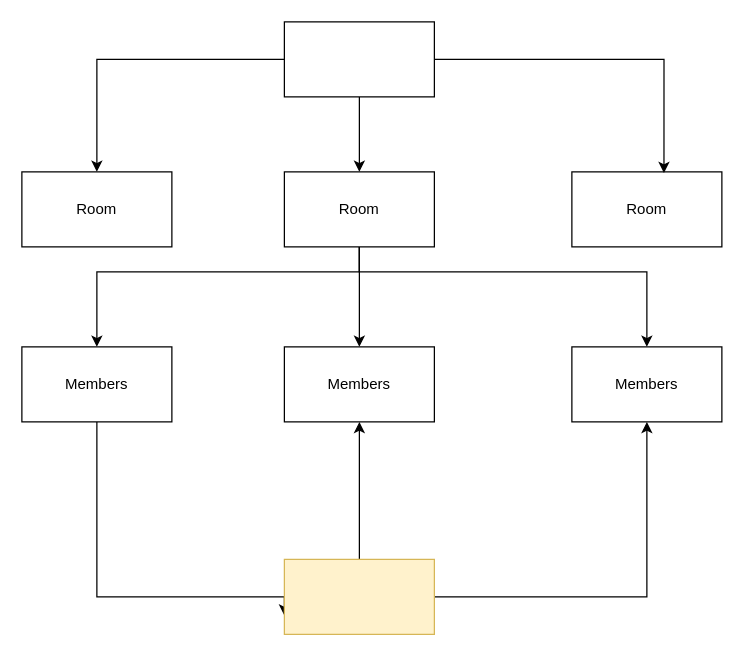
This 744x656 diagram has some shape labels left out. Here are the shapes that lost their labels. From the top down, the box of each, then its label:
(283, 21, 434, 97): Server
(283, 558, 434, 634): Message
